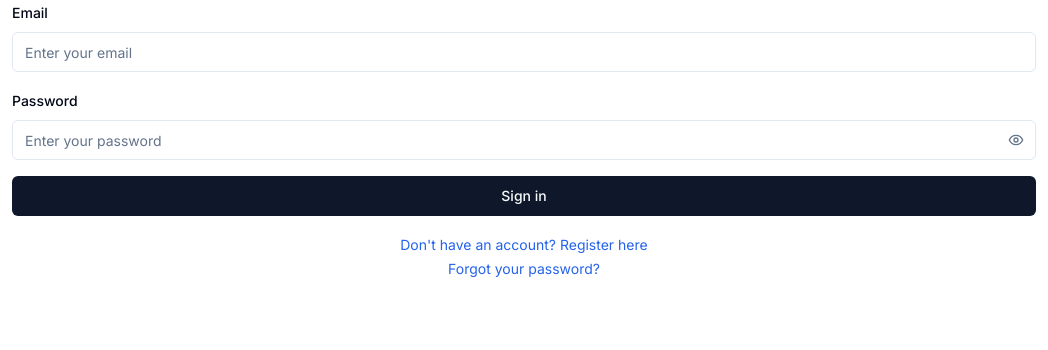
Test case: LoginForm Component › Form Validation › should clear validation errors when user starts typing
This screenshot has width=1048, height=350.
Click the button with test id "login-button".
click(524, 196)  # box 12,176 -> 1036,216
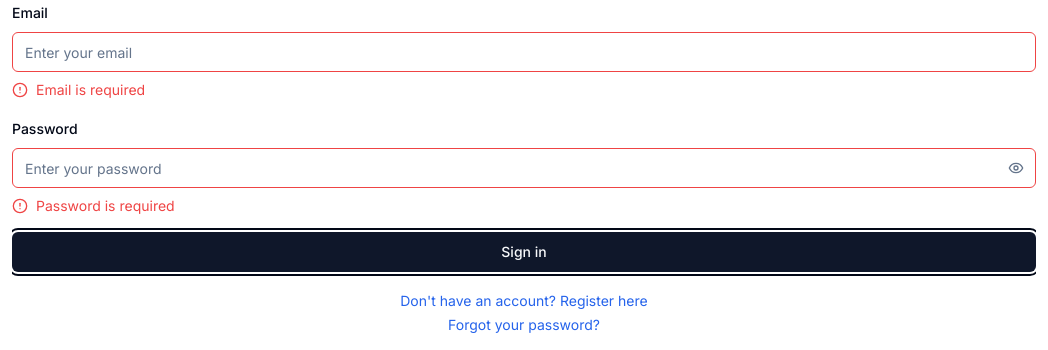
Expected: the text "Email is required" is shown, 36,80 -> 145,100
Type "test@example.com" into the field with test id "email-input".
click(524, 52); type("test@example.com")  # box 12,32 -> 1036,72
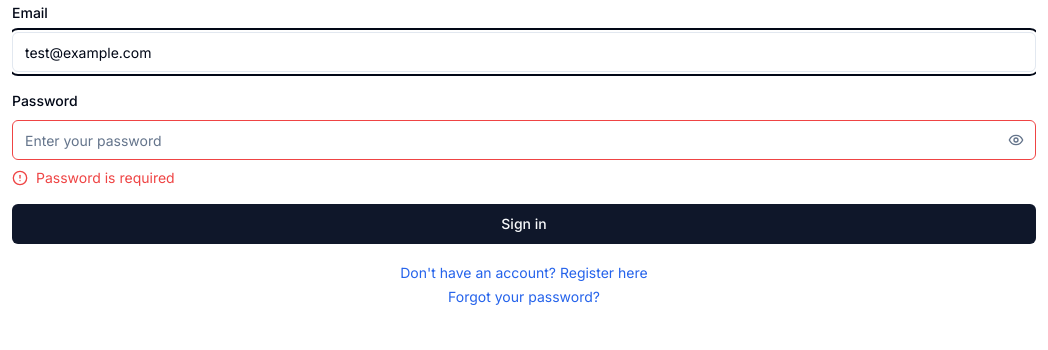
Expected: the text "Email is required" is gone
